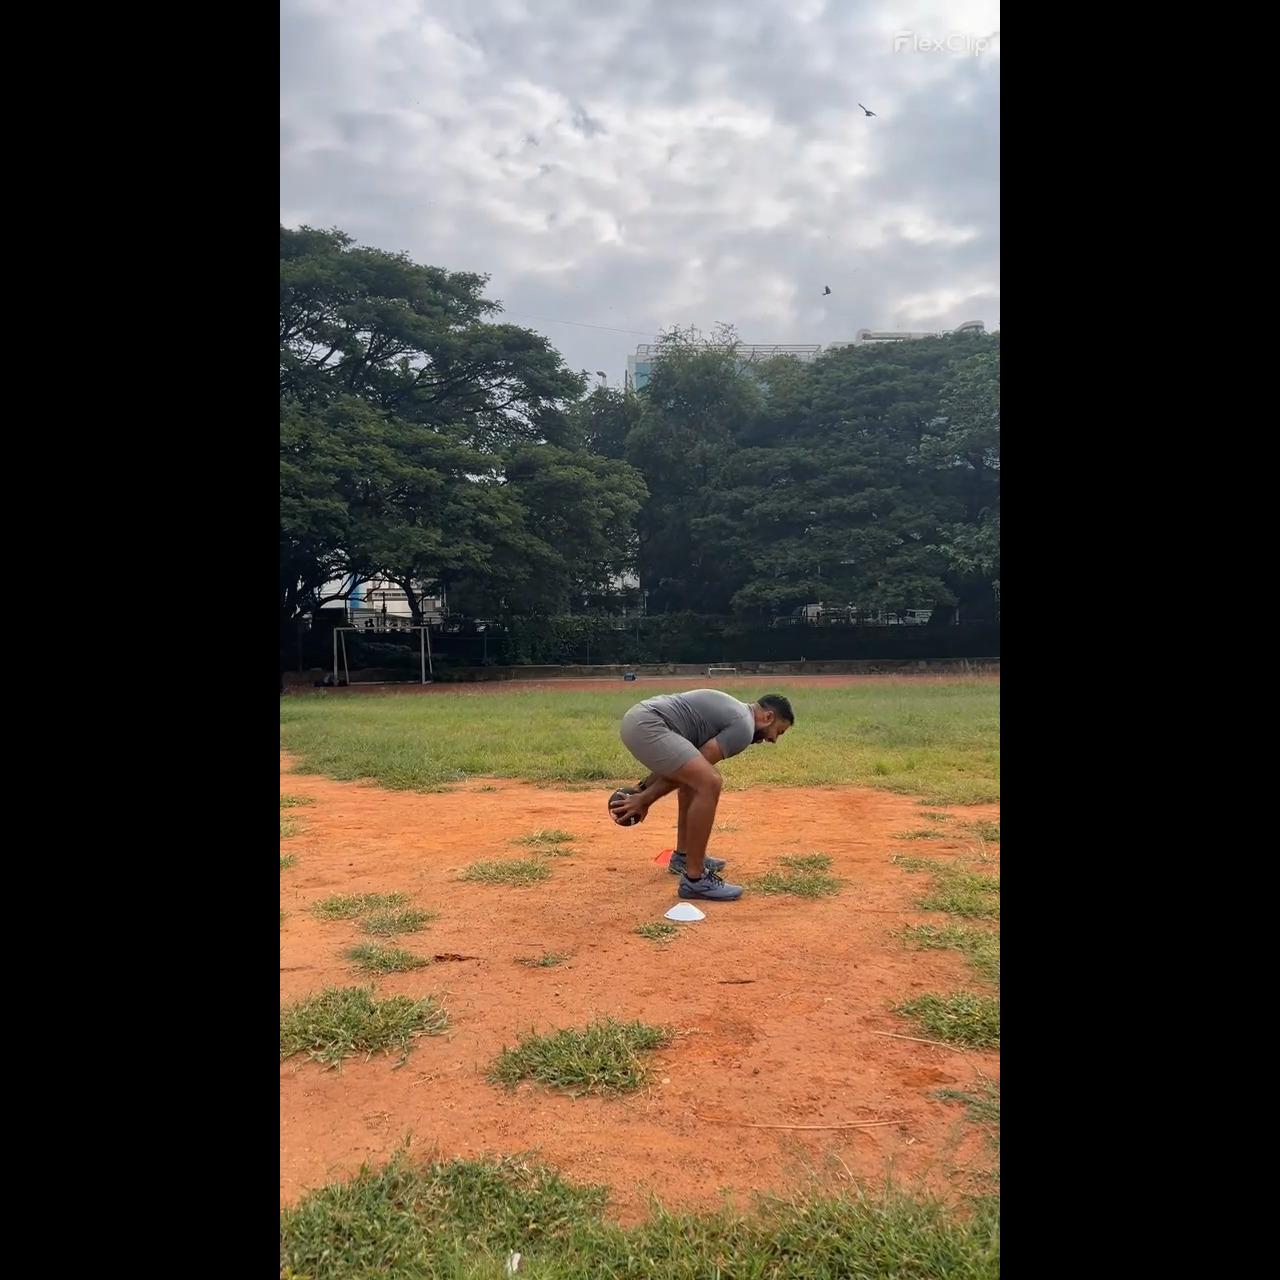Athelete: (608, 692, 794, 903)
